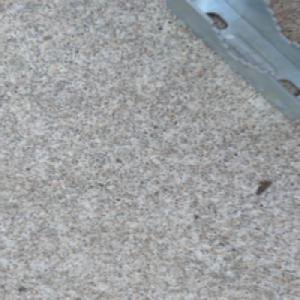ClampPart: (165, 0, 300, 120)
